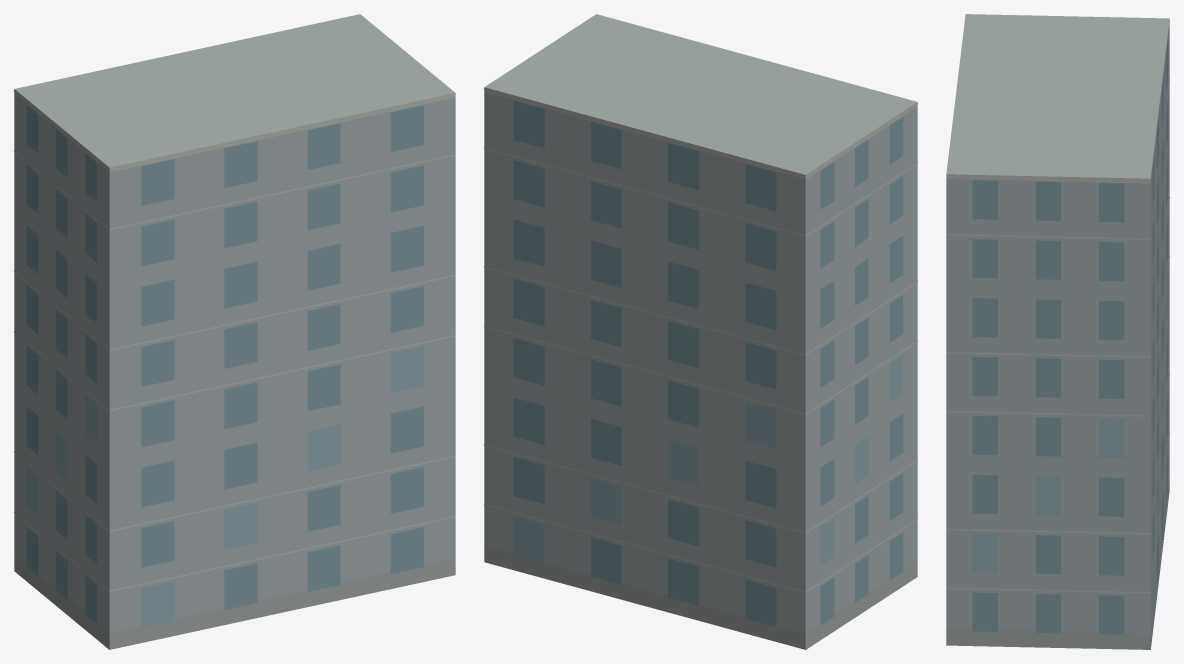
Rendered from survey-upis-32765216.glb.
3 renders of one model, left to right at view 1: azimuth 30°, elevation 25°; view 2: azimuth 150°, elevation 25°; view 3: azimuth 270°, elevation 25°, orthographic. The views are drawn at different scales.
Parts seen in each view (by area): view 1: survey-upis-32765216.tmp; view 2: survey-upis-32765216.tmp; view 3: survey-upis-32765216.tmp.
Part boxes in pixels (x1,y1,x2,y2): survey-upis-32765216.tmp: (14,14,455,649); survey-upis-32765216.tmp: (484,14,917,649); survey-upis-32765216.tmp: (946,14,1169,649).
Size of the model in its own units: 18.31 by 24.4 by 10.51.
